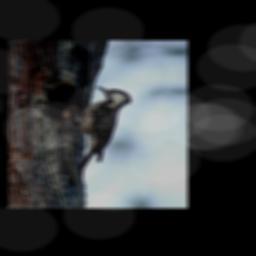Woodpecker: (57, 84, 133, 172)
